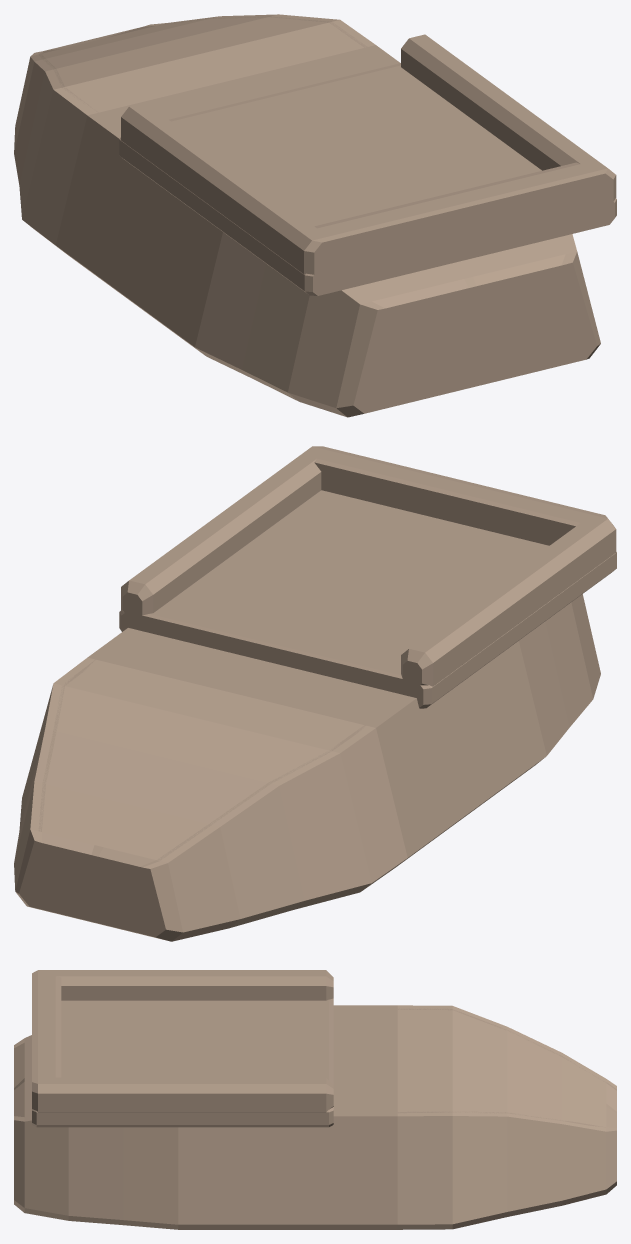
Rendered from orrin_transport_a.glb.
The picture shows the model from 3 angles, top to bottom: view 1: azimuth 30°, elevation 25°; view 2: azimuth 150°, elevation 25°; view 3: azimuth 270°, elevation 25°; orthographic projection. The views are drawn at different scales.
Visible parts, largest first — view 1: orrin_transport_a; view 2: orrin_transport_a; view 3: orrin_transport_a.
Boxes of the visible parts, <box> form: orrin_transport_a: <box>14,14,616,417</box>; orrin_transport_a: <box>14,446,616,941</box>; orrin_transport_a: <box>14,970,616,1229</box>.
Bounding box in the file's own units: 4.3 × 2.07 × 8.1.
